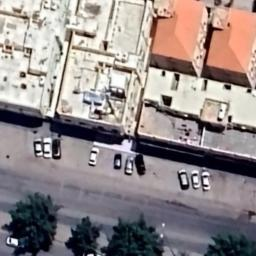sedan: (132, 151, 148, 178), (175, 168, 191, 192), (200, 167, 214, 194), (5, 234, 26, 252), (122, 152, 136, 178), (189, 164, 202, 192), (32, 135, 44, 163), (110, 149, 124, 173), (42, 136, 54, 162), (87, 145, 100, 168), (50, 138, 63, 160), (81, 250, 106, 256)
